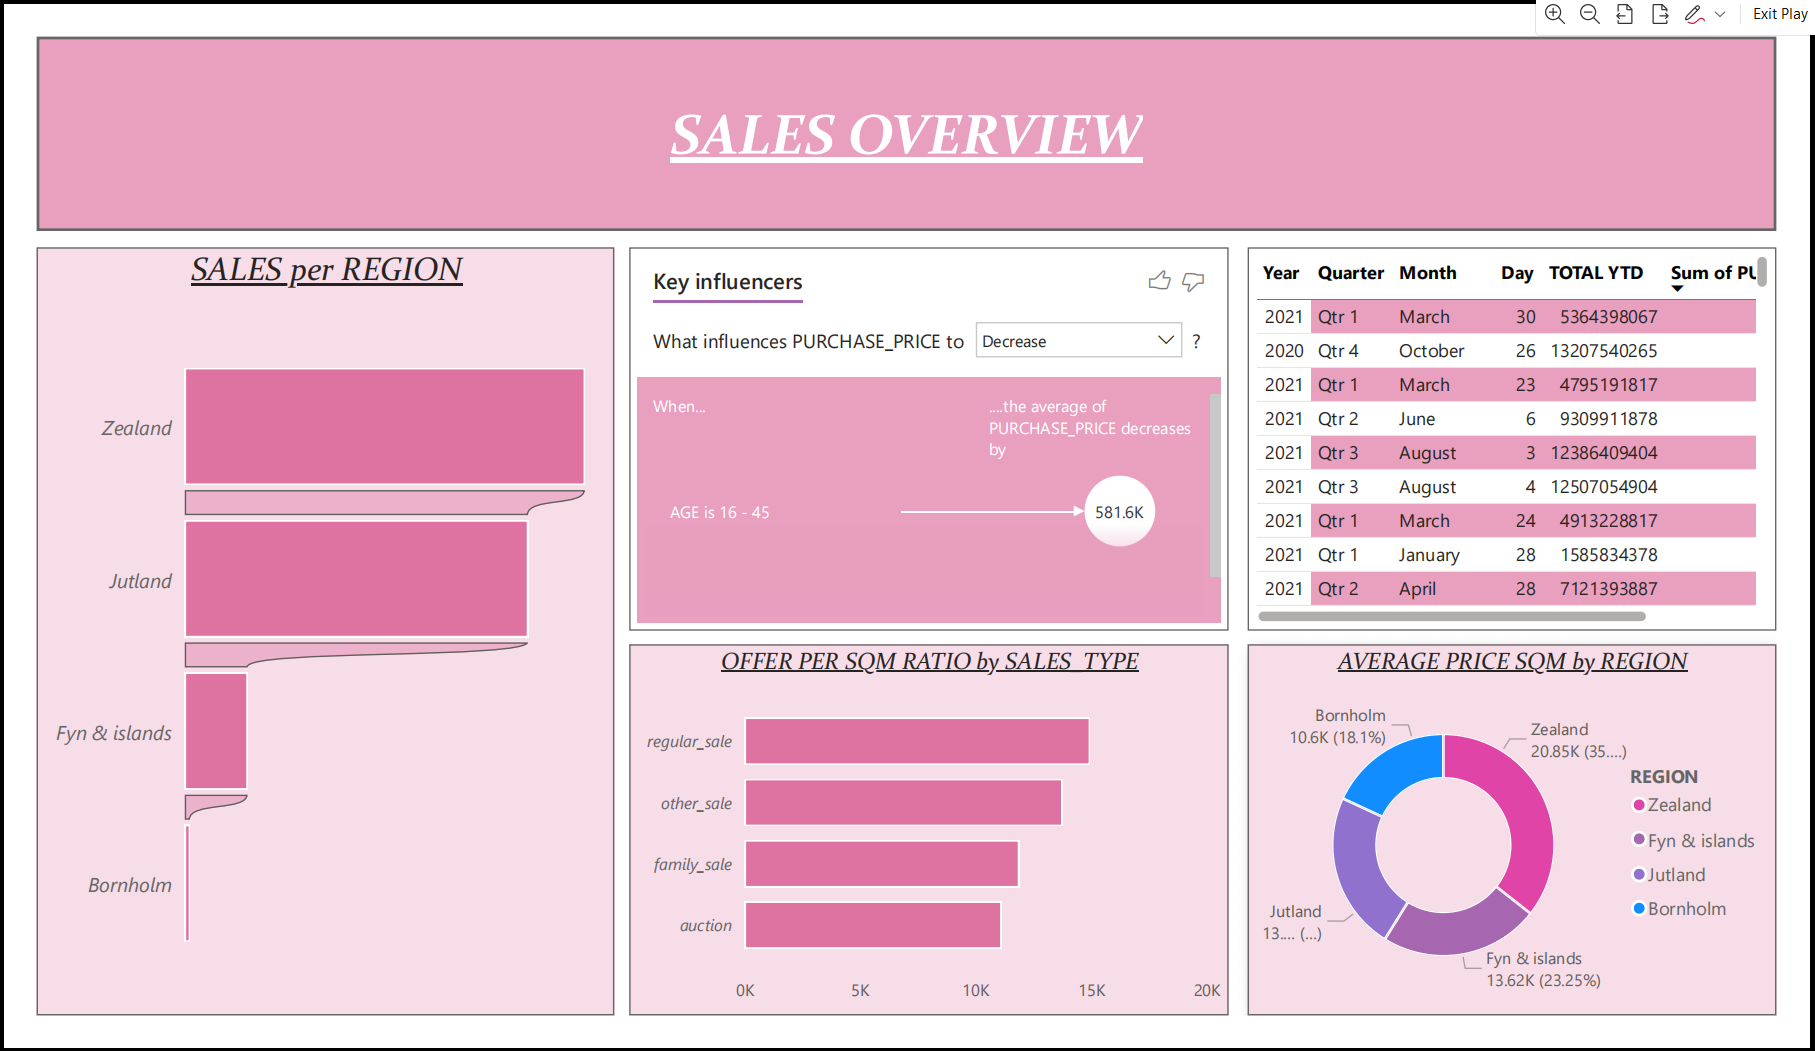

The page's visual inventory and layout, read from the dashboard file:
{"tool":"powerbi","page":{"name":"SALES OVERVIEW","canvas":[1280,720],"ordinal":1},"visuals":[{"type":"barChart","title":"SALES per REGION","fields":{"Y":["MEASURE TABLE.Sales per region"],"Category":["DATA.REGION"]},"box":[0,154.5,424.9,565.6],"z":0},{"type":"tableEx","fields":{"Values":["DATA.DATE.Variation.Date Hierarchy.Year","DATA.DATE.Variation.Date Hierarchy.Quarter","DATA.DATE.Variation.Date Hierarchy.Month","DATA.DATE.Variation.Date Hierarchy.Day","MEASURE TABLE.TOTAL YTD","Sum(DATA.PURCHASE_PRICE)"]},"box":[891.2,154.5,389.1,282.8],"z":1000},{"type":"shape","box":[0,0,1280.3,143.5],"z":2000},{"type":"donutChart","title":"AVERAGE PRICE SQM by REGION","fields":{"Y":["MEASURE TABLE.AVERAGE SALEPRICE per SQM"],"Category":["DATA.REGION"]},"box":[891.2,447,389.1,273.2],"z":3000},{"type":"keyDriversVisual","fields":{"Target":["DATA.PURCHASE_PRICE"],"ExplainBy":["DATA.AGE"]},"box":[436,154.5,441.5,282.8],"z":4000},{"type":"barChart","fields":{"Y":["MEASURE TABLE.OFFER PER SQM RATIO"],"Category":["DATA.SALES_TYPE"]},"box":[436,447,441.5,273.2],"z":5000}]}

Visuals, with their boxes on the page's 1280x720 design canvas (x1, y1, x2, y2). These are canvas units, not pixel positions in the 1815x1051 screenshot, which may show the page scaled, cropped or inside an application window:
"SALES per REGION" barChart: detection(0, 154, 425, 720)
tableEx - DATA.DATE.Variation.Date Hierarchy.Year x DATA.DATE.Variation.Date Hierarchy.Quarter: detection(891, 154, 1280, 437)
shape: detection(0, 0, 1280, 144)
"AVERAGE PRICE SQM by REGION" donutChart: detection(891, 447, 1280, 720)
keyDriversVisual - DATA.PURCHASE_PRICE x DATA.AGE: detection(436, 154, 878, 437)
barChart - MEASURE TABLE.OFFER PER SQM RATIO x DATA.SALES_TYPE: detection(436, 447, 878, 720)
